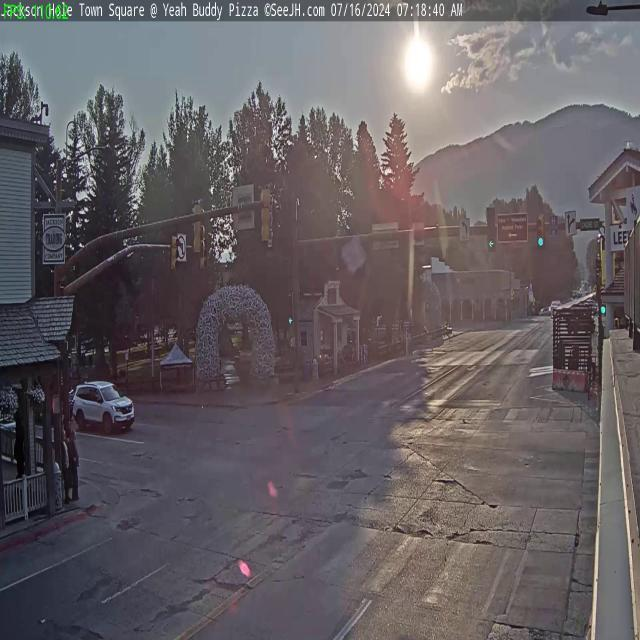person: (70, 422, 80, 503), (60, 428, 70, 504)
suv: (68, 378, 134, 436)
traffic light: (260, 183, 273, 244), (190, 199, 203, 254), (486, 207, 496, 250), (536, 214, 546, 248), (172, 235, 178, 274)
